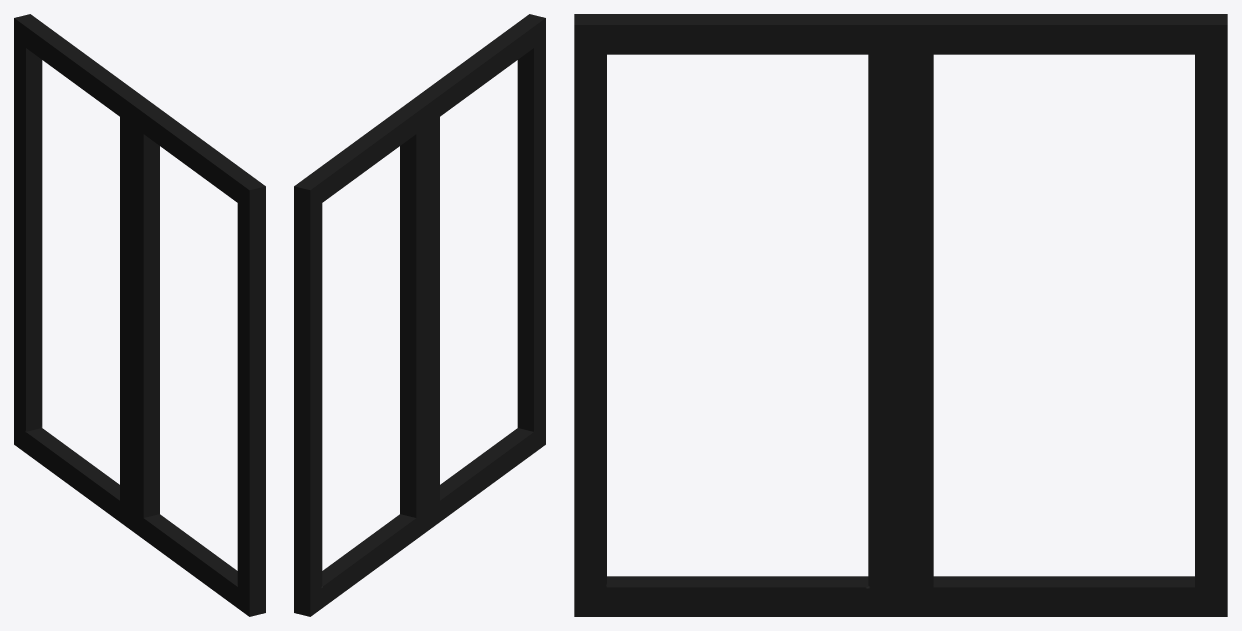
Rendered from Hospital_Window.fbx.
3 renders of one model, left to right at view 1: azimuth 30°, elevation 25°; view 2: azimuth 150°, elevation 25°; view 3: azimuth 270°, elevation 25°, orthographic. The views are drawn at different scales.
Parts seen in each view (by area): view 1: Cube; view 2: Cube; view 3: Cube.
Part boxes in pixels (box(x1,y1,x2,y2)): Cube: box(14, 14, 265, 616); Cube: box(294, 14, 545, 616); Cube: box(574, 14, 1227, 616).
Size of the model in its own units: 200 by 5000 by 5000.
